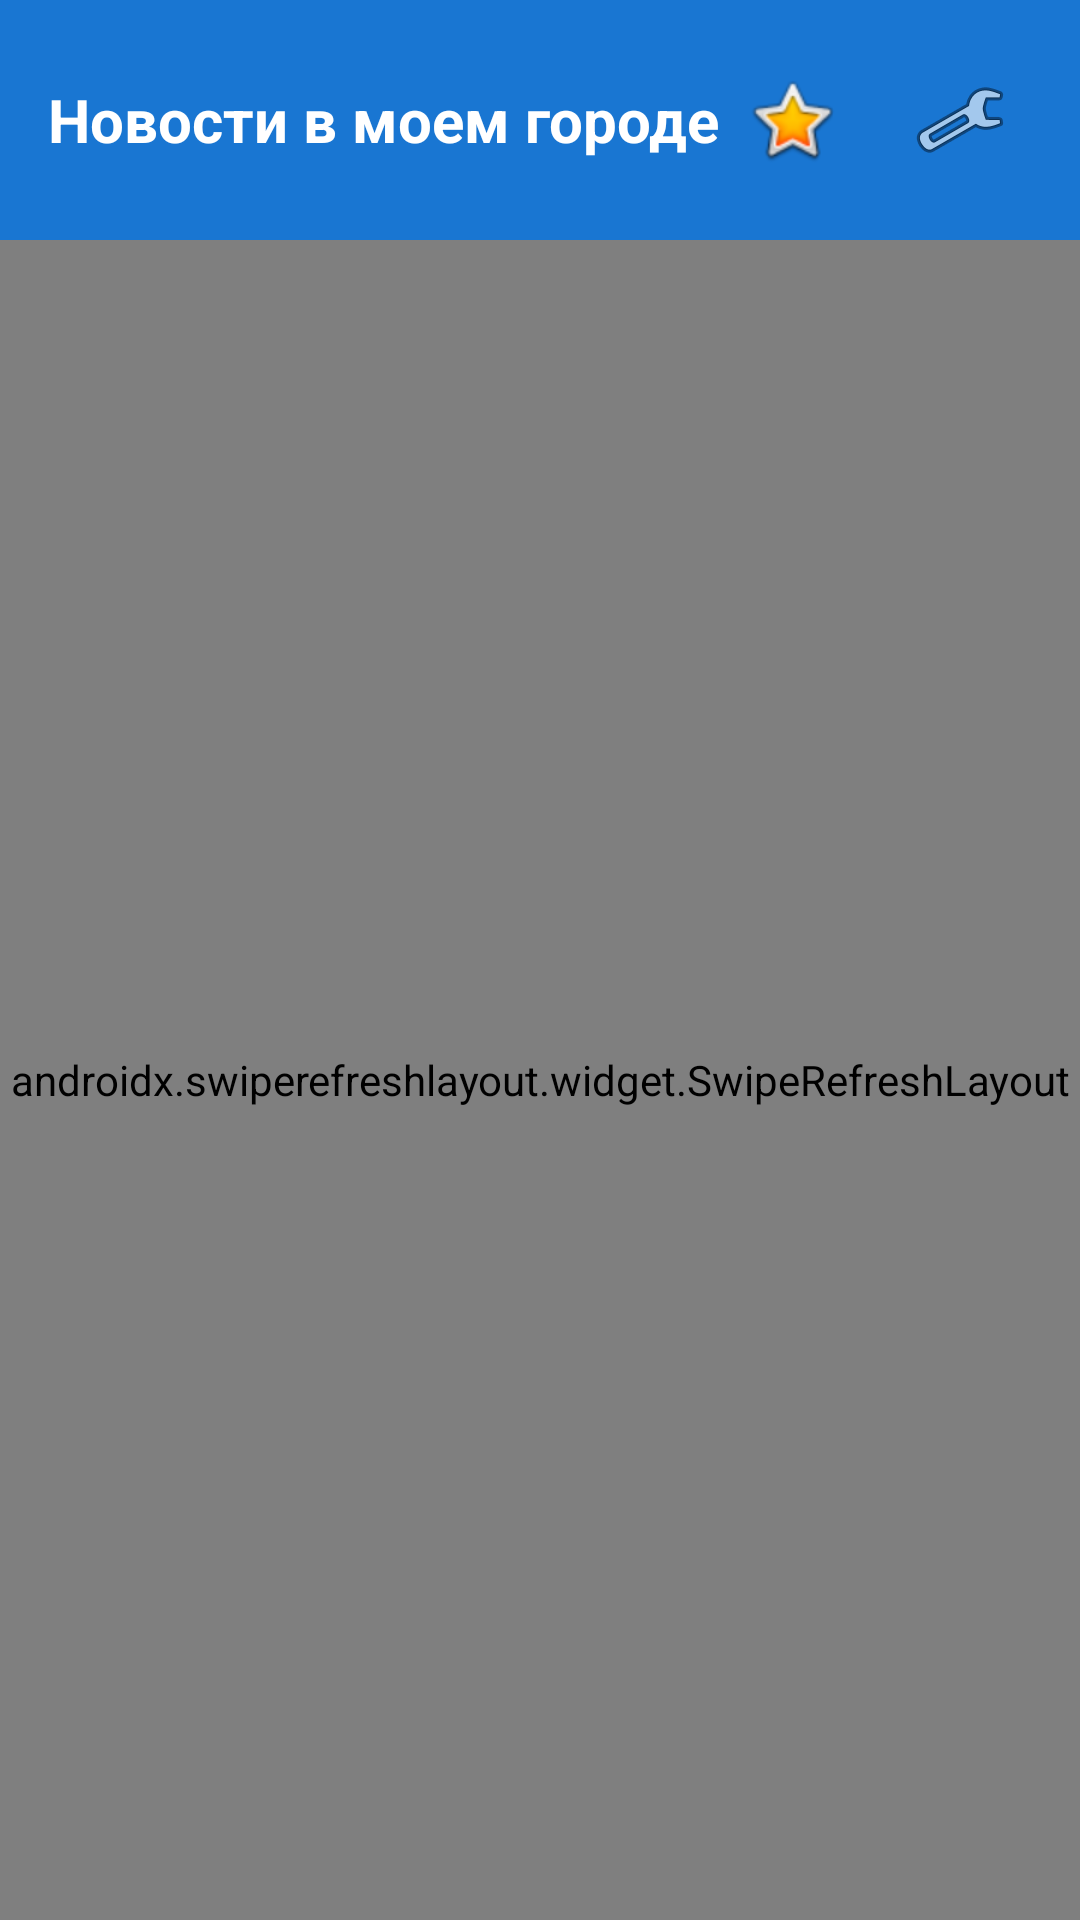

Point at icon controls on the screen. Image size 1080*1920, points as [x,y].
Избранное: [793,121]
Настройки: [960,120]
